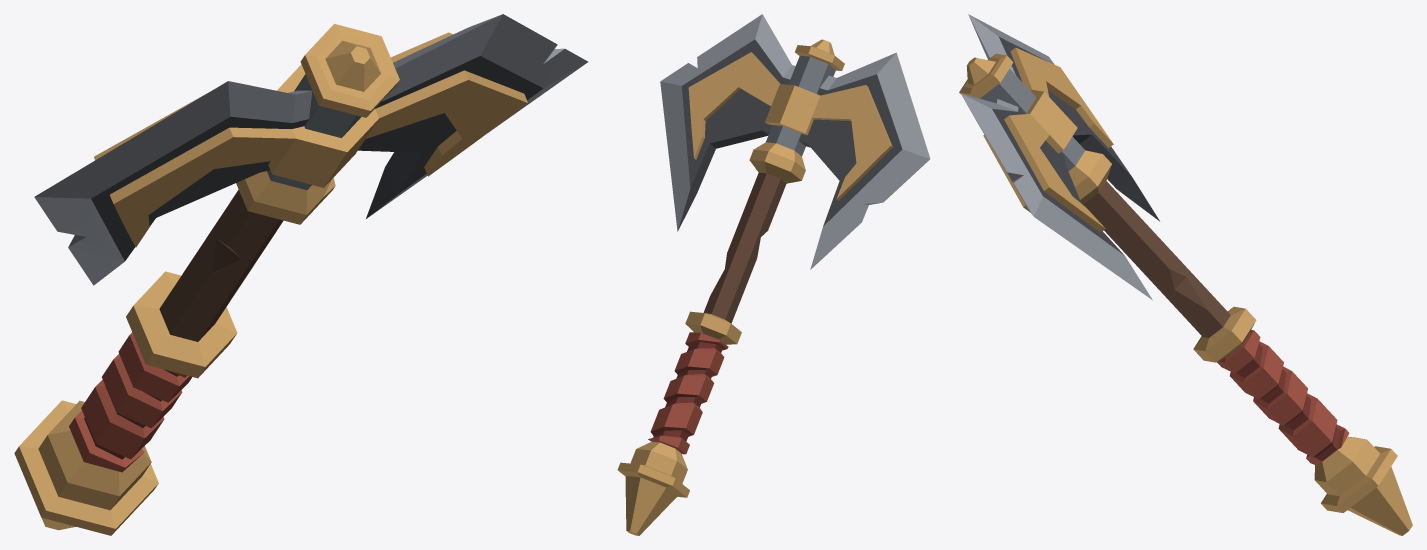
The model's file is dr-axe-small-03.glb.
The picture shows the model from 3 angles, left to right: view 1: azimuth 30°, elevation 25°; view 2: azimuth 150°, elevation 25°; view 3: azimuth 270°, elevation 25°; orthographic projection. The views are drawn at different scales.
Visible parts, largest first — view 1: dr-axe-small-03; view 2: dr-axe-small-03; view 3: dr-axe-small-03.
Boxes of the visible parts, bbox=[...] form: dr-axe-small-03: bbox=[14, 14, 588, 535]; dr-axe-small-03: bbox=[617, 14, 930, 535]; dr-axe-small-03: bbox=[959, 14, 1412, 535].
Size of the model in its own units: 0.4958 by 0.6516 by 0.5677.
1 material, 1 textured.
